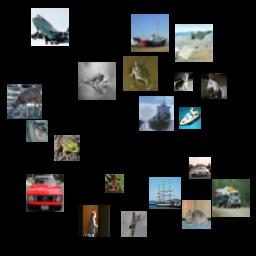airplane: (31, 8, 69, 46), (175, 24, 213, 62), (121, 211, 147, 237)
automobile: (26, 174, 64, 212), (189, 157, 211, 179)
cat: (78, 205, 110, 237), (182, 200, 211, 229), (26, 120, 48, 142)
deer: (7, 84, 42, 119)
dog: (174, 72, 193, 91)
frog: (78, 62, 116, 100), (123, 56, 158, 91), (54, 135, 80, 161), (105, 174, 124, 193)
ship: (131, 14, 169, 52), (139, 96, 174, 131), (149, 177, 181, 209), (179, 107, 201, 129)
truck: (212, 179, 250, 217)
